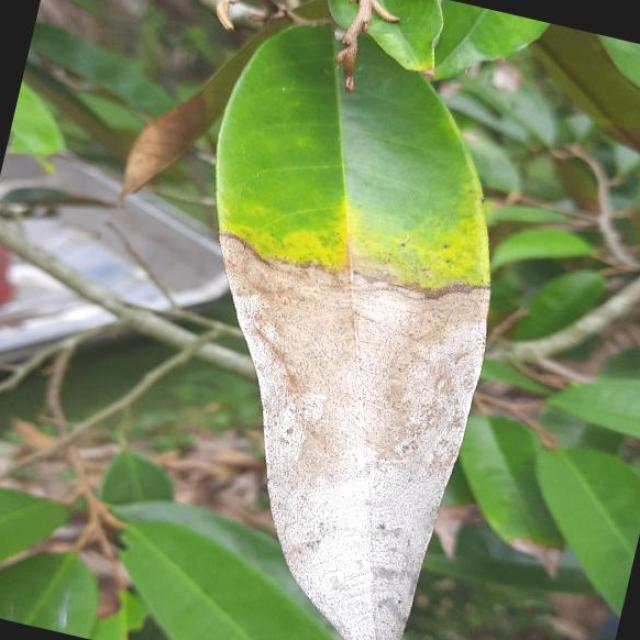Leaf Blight: (82, 0, 568, 640)
